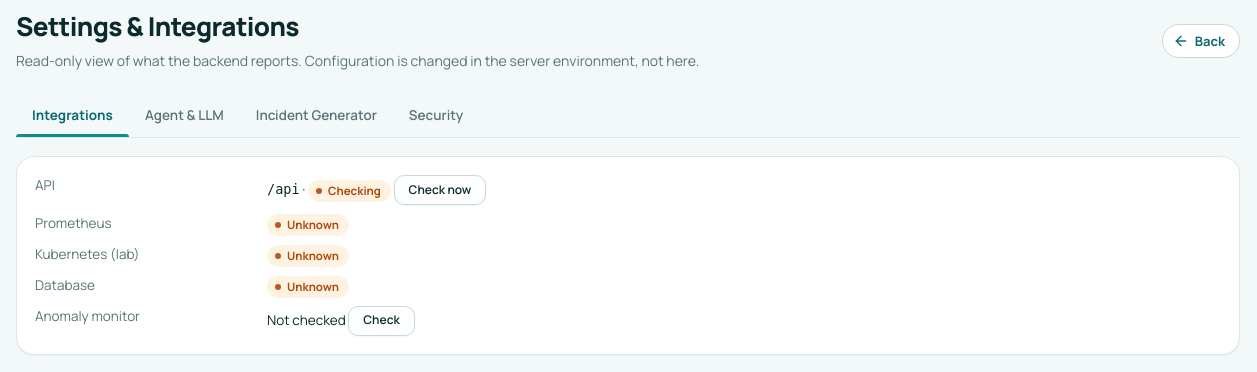
Test: lab incident generator settings › starts the simulator on demand from the Incident generator tab
Click the tab "Incident generator" at (316, 115), box [240,94,393,137]
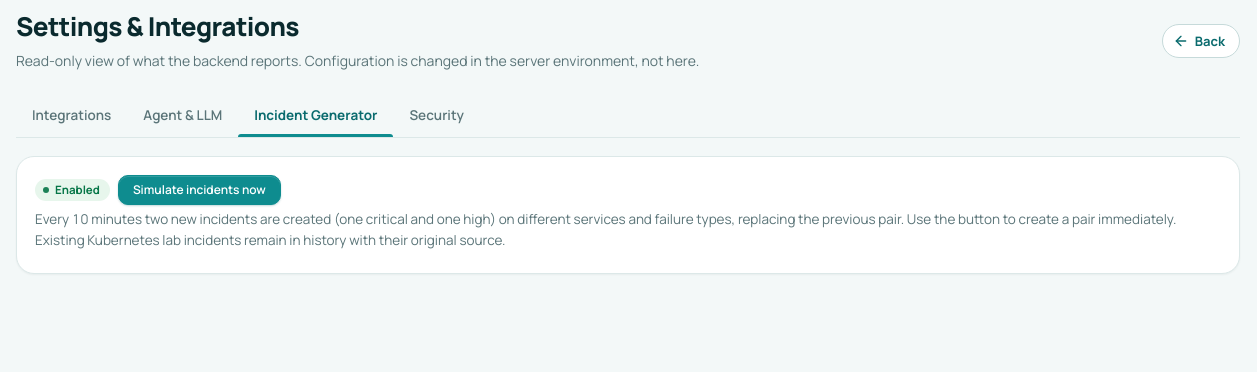
Click the button "Simulate incidents now" at (199, 190), box [118,175,281,205]
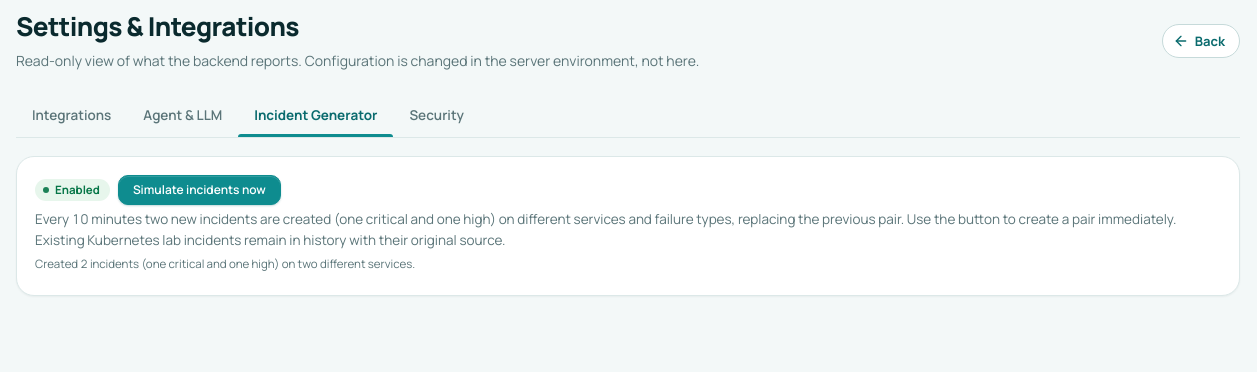
Result: the text "Created 2 incidents (one critical and one high) on two different services." is shown at [35,256,415,271]
